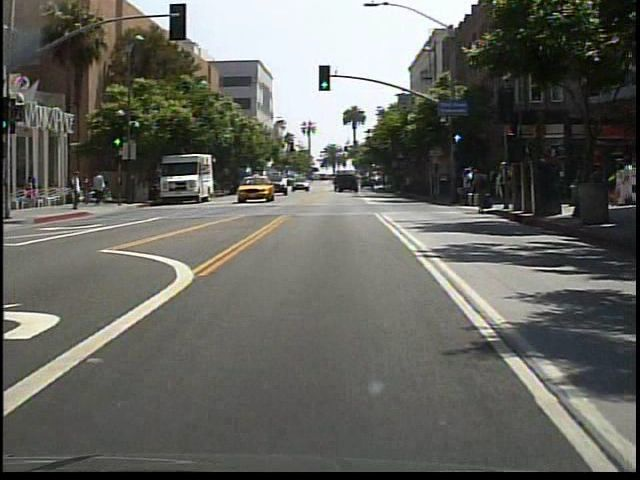person: (469, 163, 492, 218), (69, 169, 85, 213), (93, 169, 109, 205), (27, 176, 42, 210), (81, 174, 94, 205)
